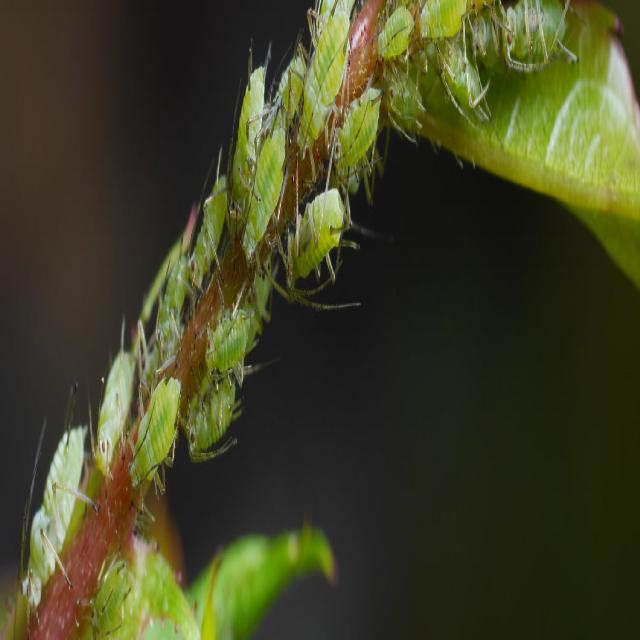Aphid-Grouped-: (12, 2, 452, 618)
Aphid-Grown-: (16, 400, 90, 614), (290, 7, 356, 170), (232, 104, 289, 270), (123, 369, 181, 508), (329, 78, 387, 188), (200, 292, 258, 383), (377, 2, 415, 69)
